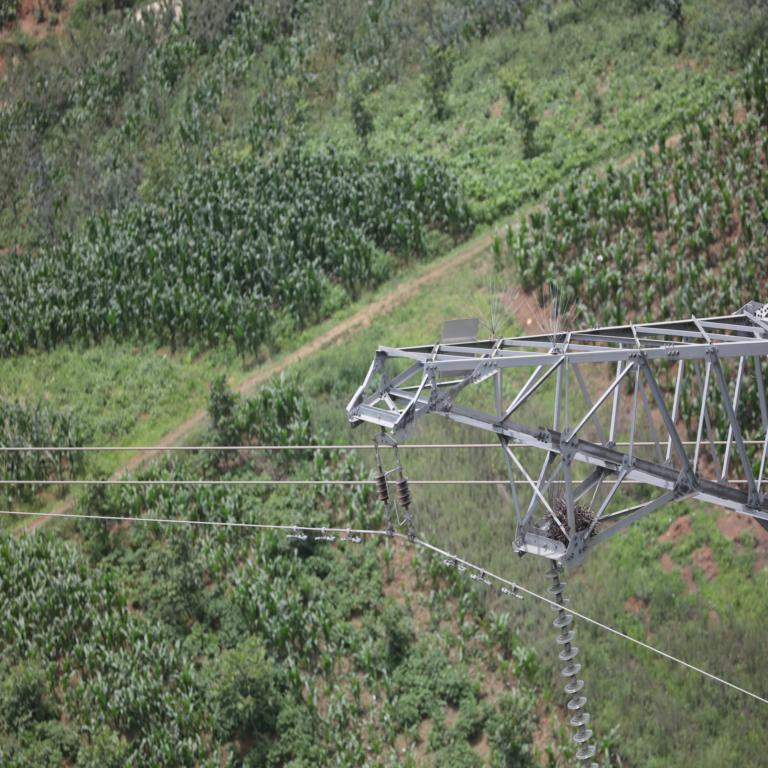nest: (546, 501, 596, 545)
